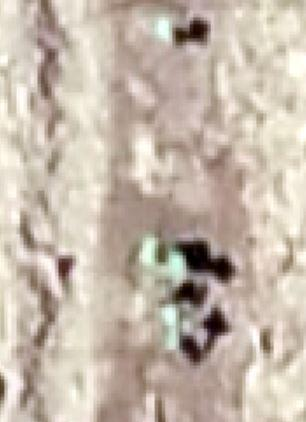cotton: (142, 236, 158, 262), (168, 252, 181, 278), (155, 21, 170, 38), (166, 328, 180, 345), (164, 308, 177, 324)
